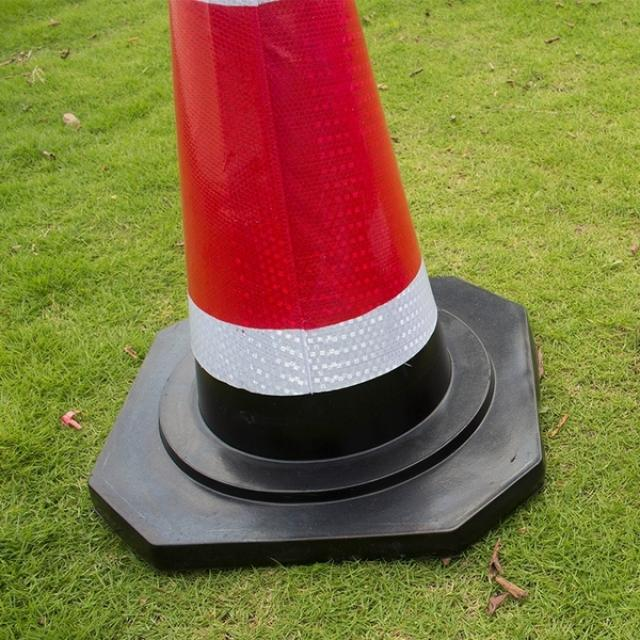reflective_cone: (79, 2, 549, 560)
